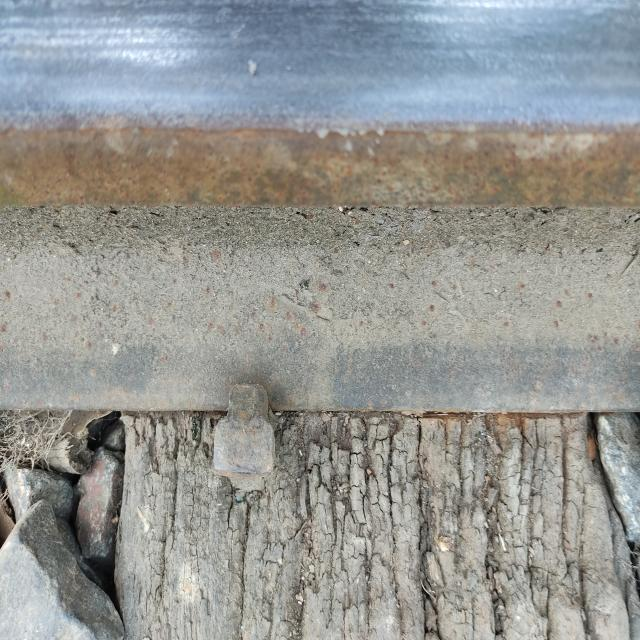Faults: (208, 377, 288, 510)
